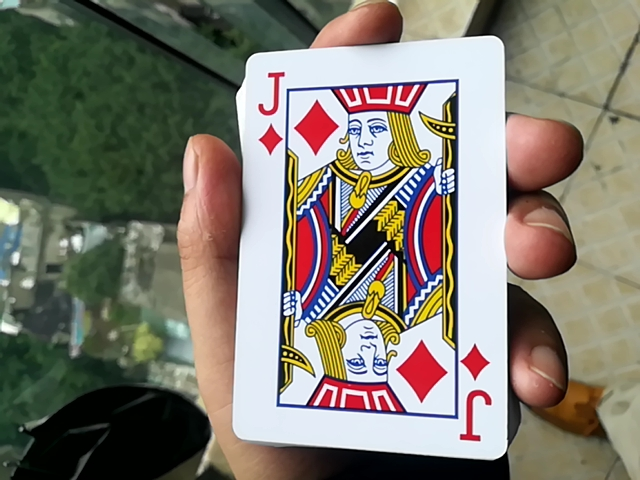fk j: (206, 49, 520, 463)
